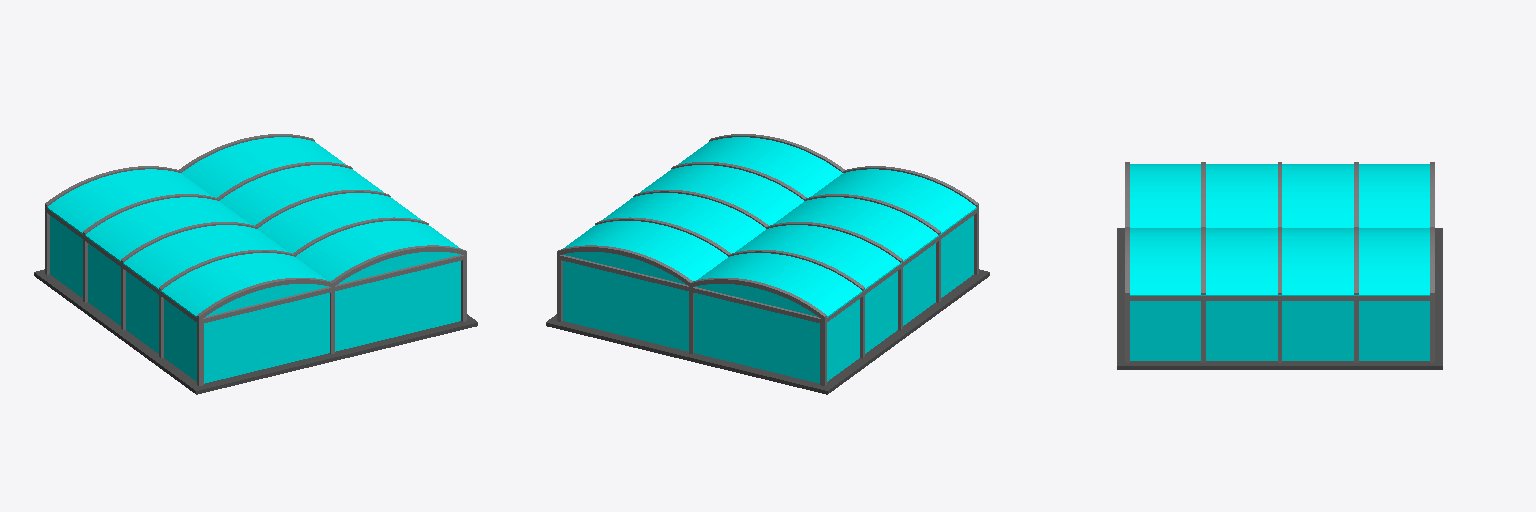
File: Greenhouse.obj
The picture shows the model from 3 angles: view 1: azimuth 30°, elevation 25°; view 2: azimuth 150°, elevation 25°; view 3: azimuth 270°, elevation 25°; orthographic projection.
Visible parts, largest first — view 1: Mesh_0.007; view 2: Mesh_0.007; view 3: Mesh_0.007.
Boxes of the visible parts, x1=… form: Mesh_0.007: x1=34, y1=134, x2=477, y2=394; Mesh_0.007: x1=546, y1=134, x2=989, y2=394; Mesh_0.007: x1=1117, y1=162, x2=1442, y2=369.
Size of the model in its own units: 20 by 6.08 by 20.